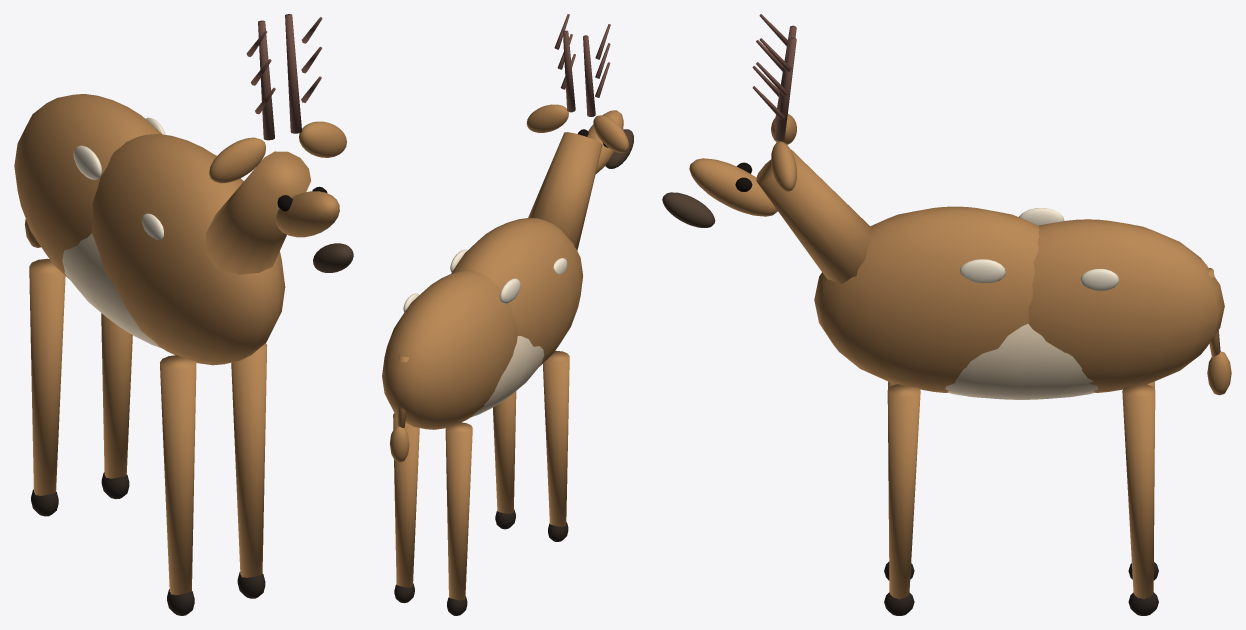
File: deer.glb
The picture shows the model from 3 angles, left to right: view 1: azimuth 30°, elevation 25°; view 2: azimuth 150°, elevation 25°; view 3: azimuth 270°, elevation 25°; orthographic projection. The views are drawn at different scales.
Parts seen in each view (by area): view 1: deer; view 2: deer; view 3: deer.
Part boxes in pixels (x1,y1,x2,y2): deer: (14, 14, 353, 615); deer: (382, 14, 633, 615); deer: (662, 14, 1231, 615).
Bounding box in the file's own units: 0.5774 × 2.59 × 2.33.
